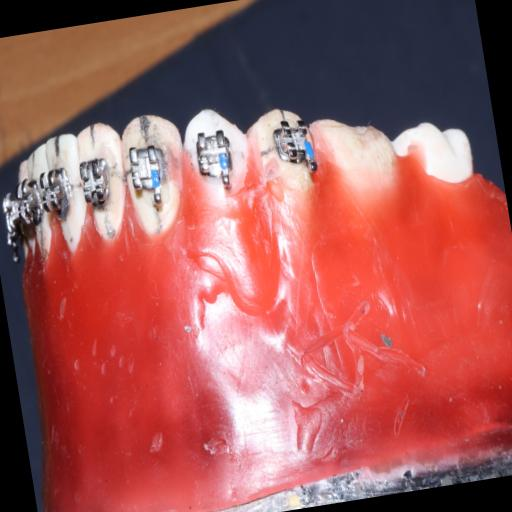correct_brace: (178, 104, 254, 203)
incorrect_brace: (190, 126, 238, 184)
